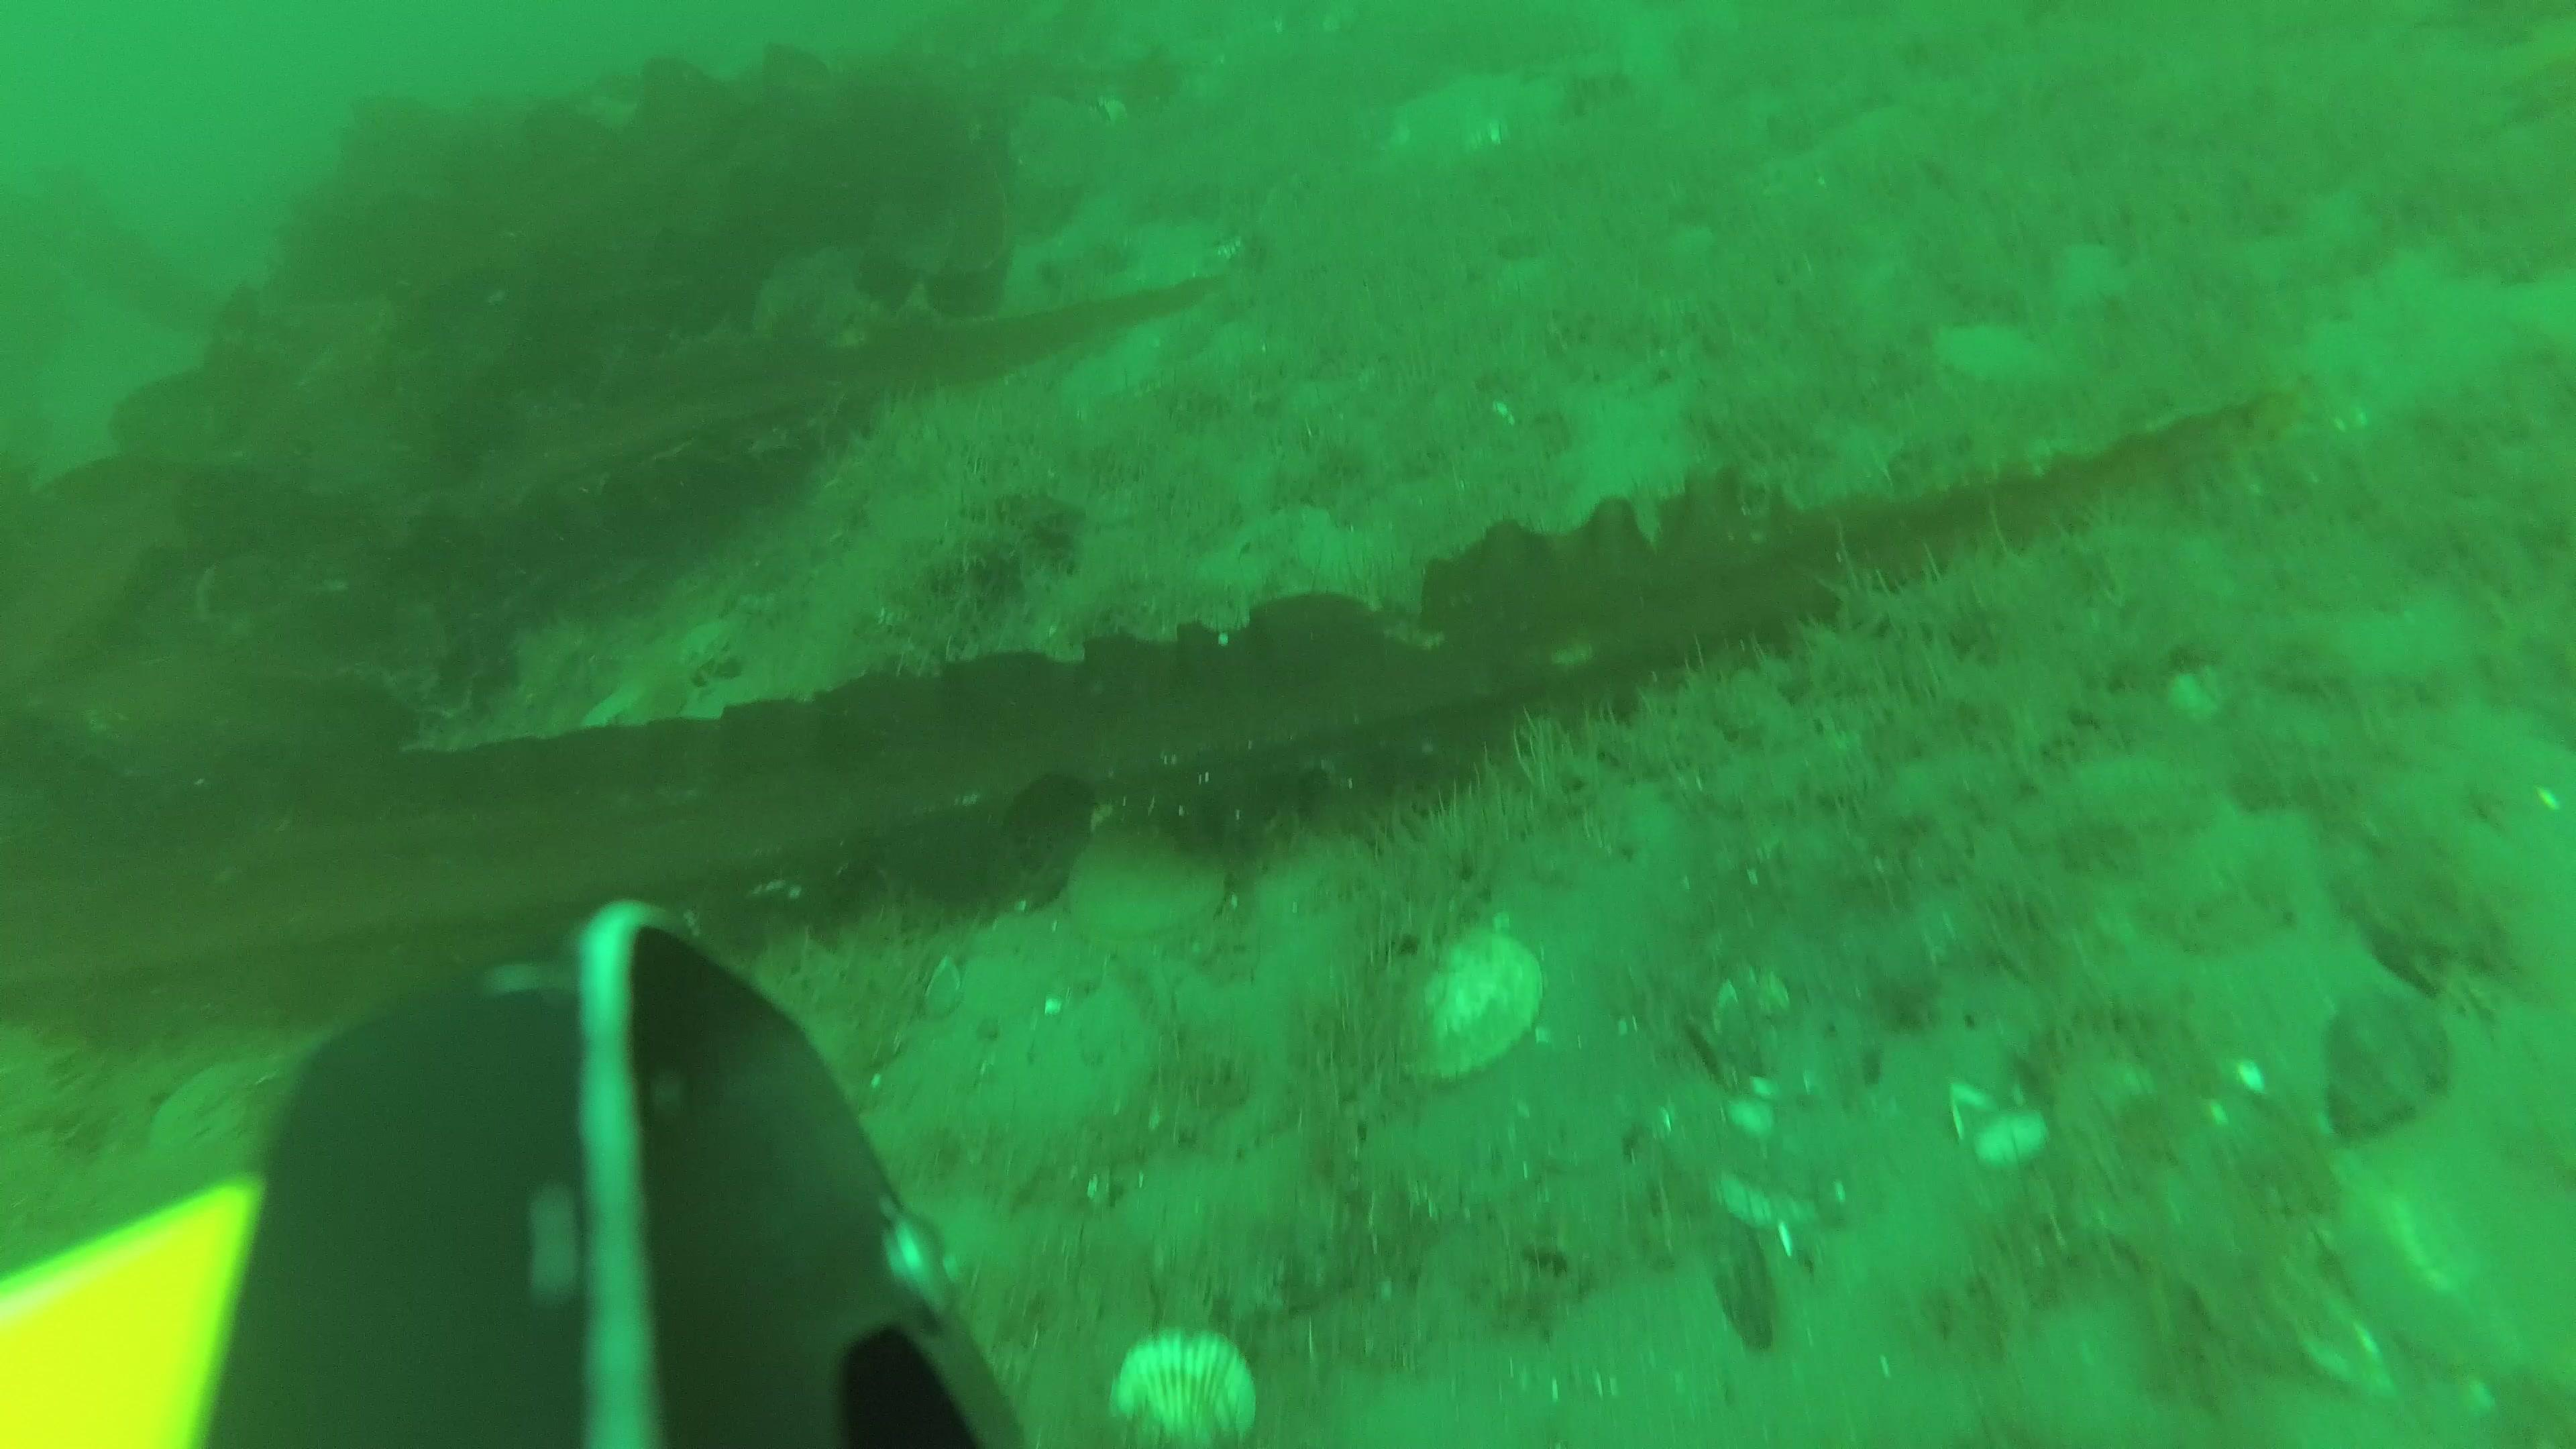scallop: (2327, 1138, 2576, 1380), (1392, 916, 1552, 1076), (1077, 816, 1240, 952), (1106, 1327, 1258, 1449)
